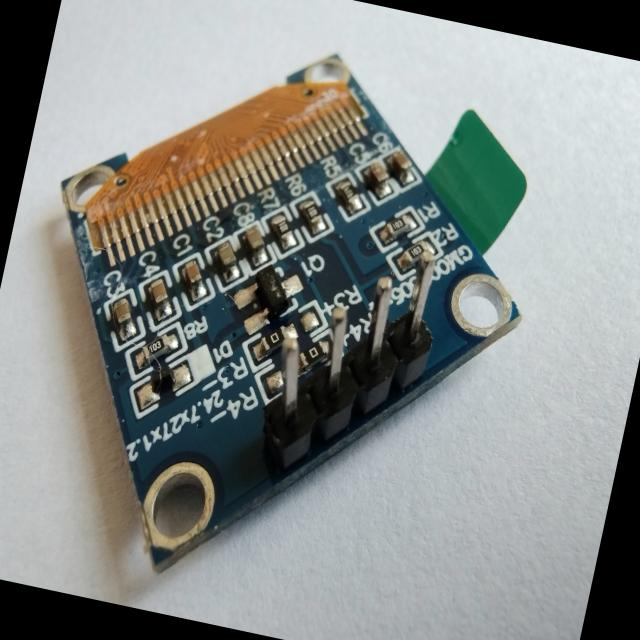oled: (0, 0, 587, 640)
